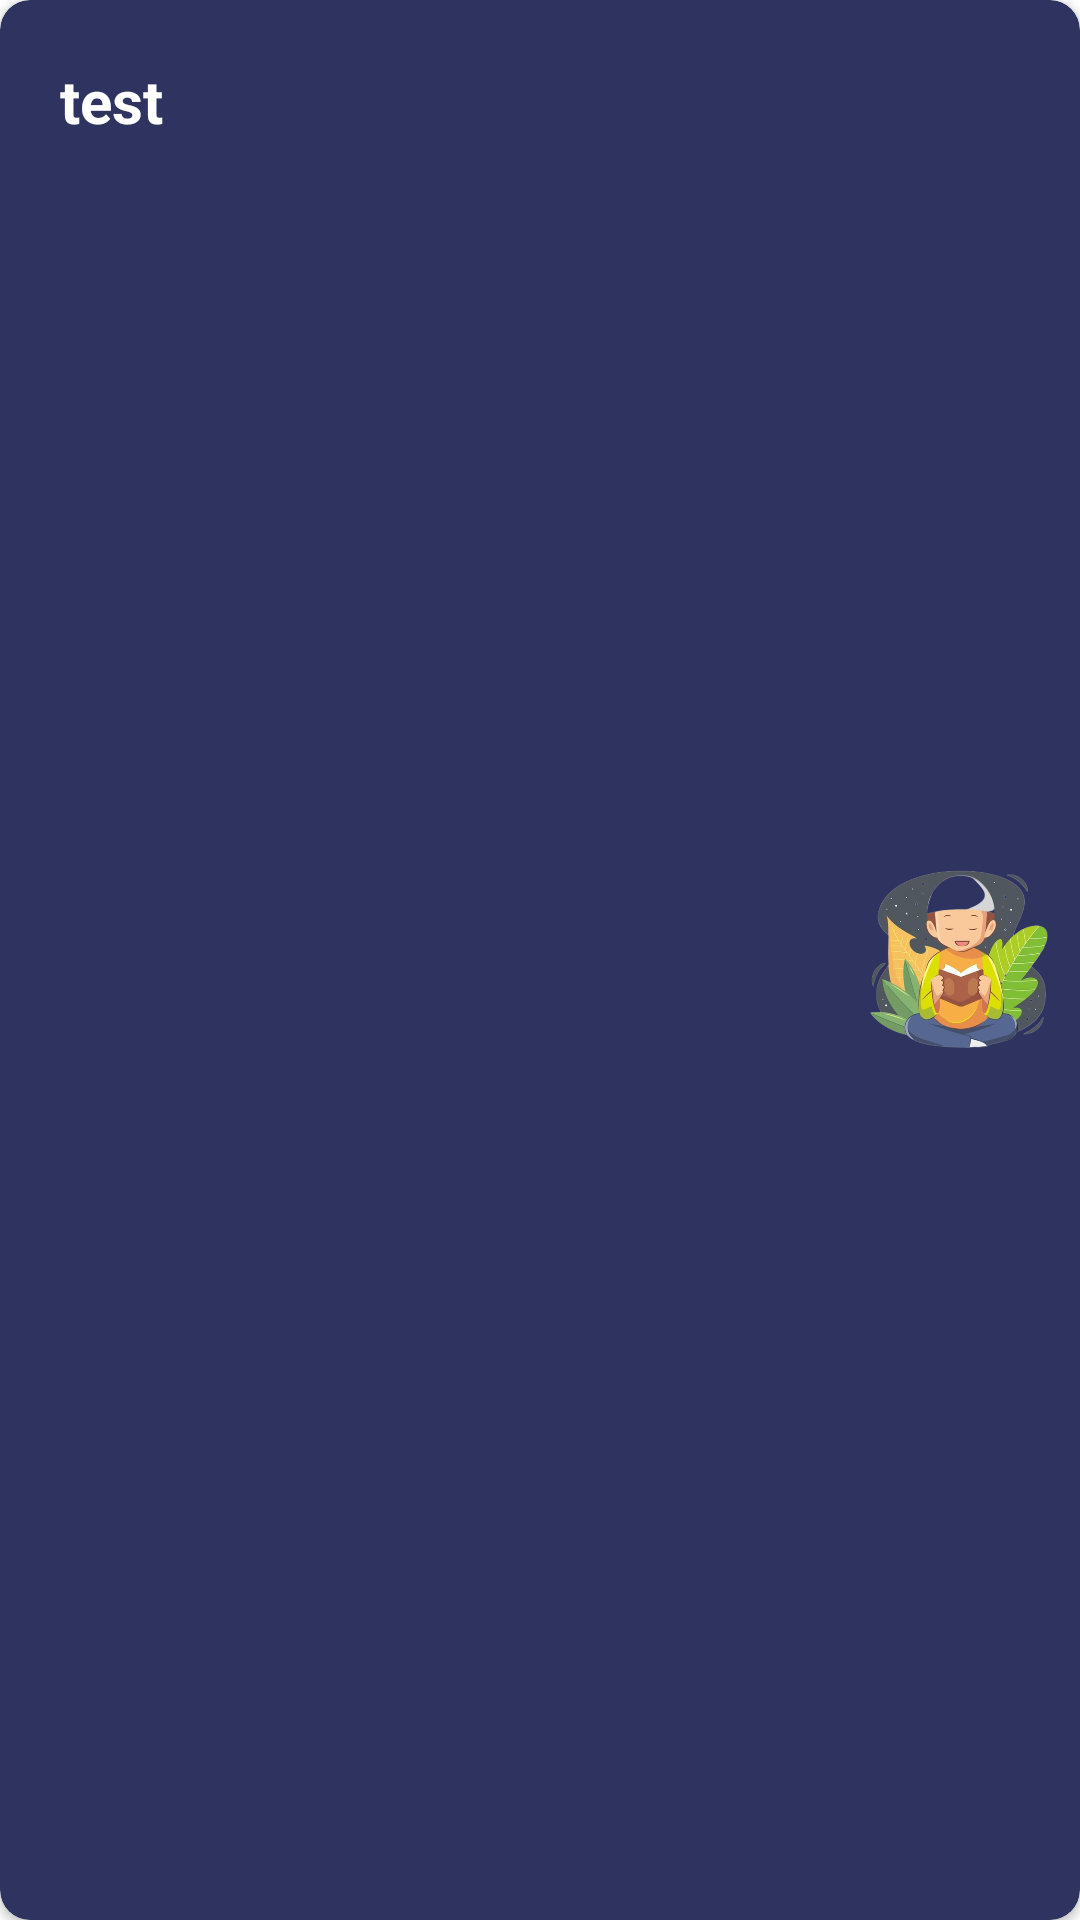

Screen size 1080×1920. Icon name, then its box in pixels as BBox(x1, y1, x2, y2):
doaharian: BBox(870, 871, 1048, 1048)
